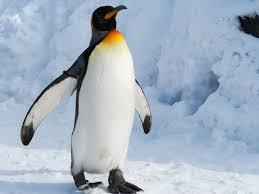king: (59, 0, 158, 194)
